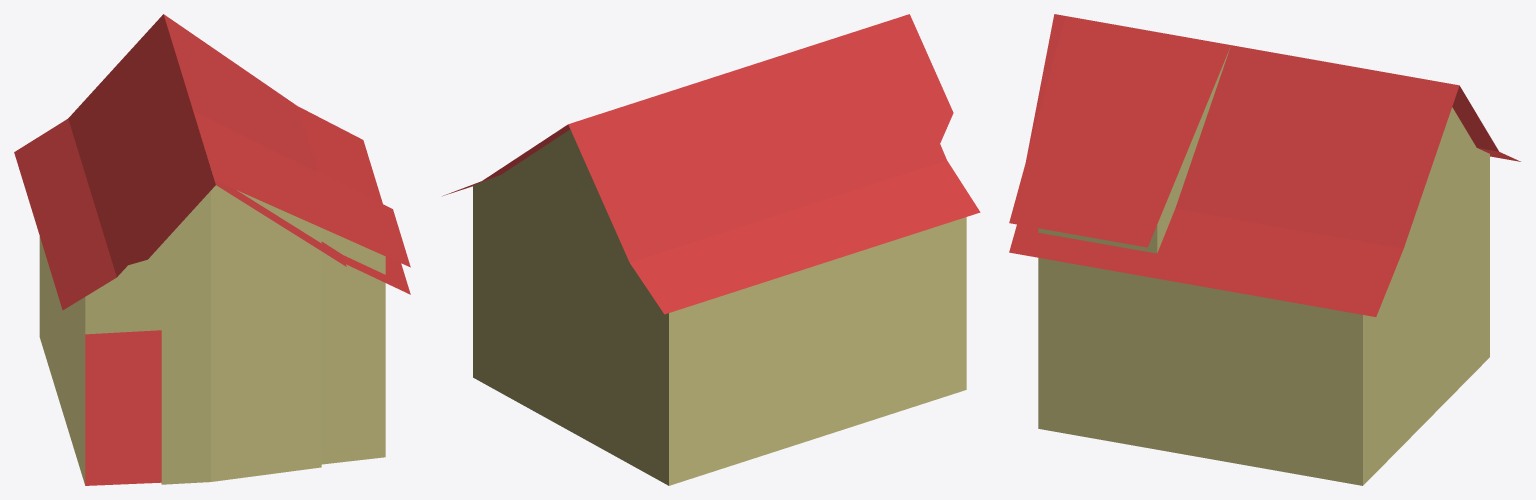
The picture shows the model from 3 angles, left to right: view 1: azimuth 30°, elevation 25°; view 2: azimuth 150°, elevation 25°; view 3: azimuth 270°, elevation 25°; orthographic projection. The views are drawn at different scales.
Size of the model in its own units: 20.66 by 20.94 by 14.85.
